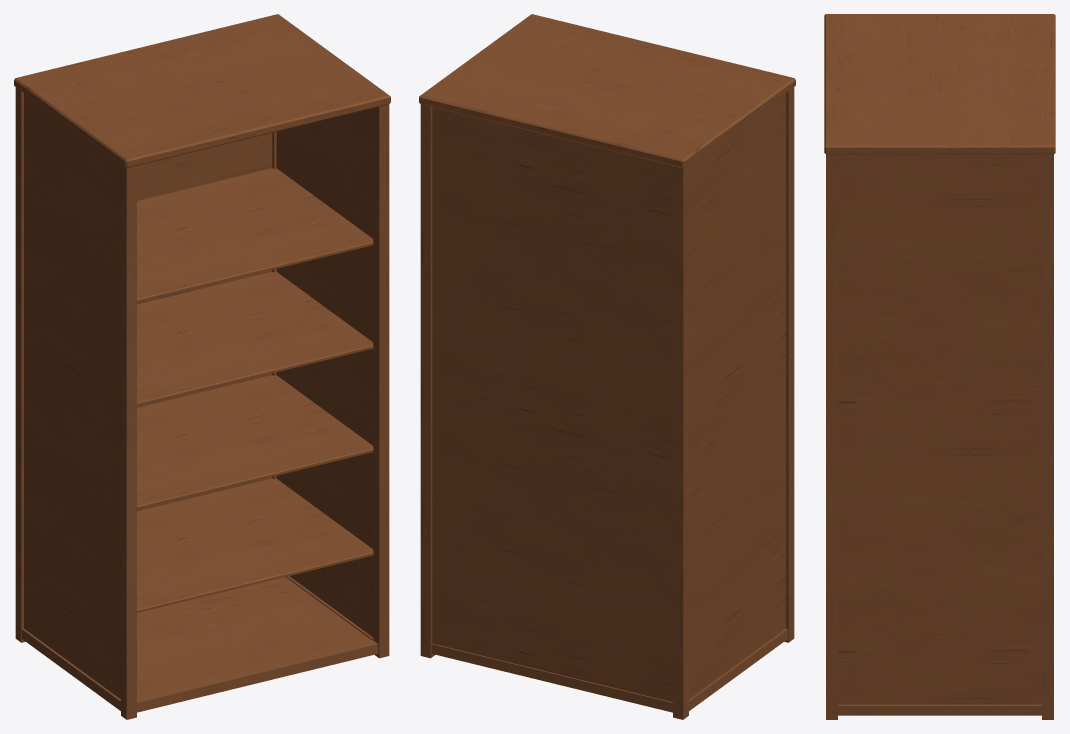
Rendered from rack_c02.fbx.
The picture shows the model from 3 angles, left to right: view 1: azimuth 30°, elevation 25°; view 2: azimuth 150°, elevation 25°; view 3: azimuth 270°, elevation 25°; orthographic projection. The views are drawn at different scales.
Parts seen in each view (by area): view 1: tana_c02; view 2: tana_c02; view 3: tana_c02.
Boxes of the visible parts, x1,y1,x2,y2 form: tana_c02: [14, 14, 390, 719]; tana_c02: [419, 14, 795, 719]; tana_c02: [824, 14, 1055, 719].
Size of the model in its own units: 80.59 by 163 by 59.37.
